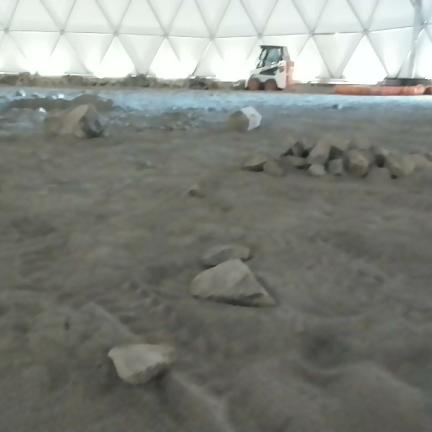Rock: (190, 260, 275, 307), (108, 344, 173, 384), (45, 104, 104, 139), (200, 244, 252, 268), (229, 107, 261, 131), (385, 153, 415, 178), (323, 135, 349, 160), (345, 150, 369, 177), (306, 141, 330, 165), (281, 140, 307, 157), (243, 154, 267, 172), (371, 146, 389, 167), (282, 156, 308, 169), (263, 159, 284, 175), (328, 159, 344, 175), (307, 164, 325, 176), (188, 185, 205, 197), (332, 103, 343, 109), (16, 90, 25, 97)
